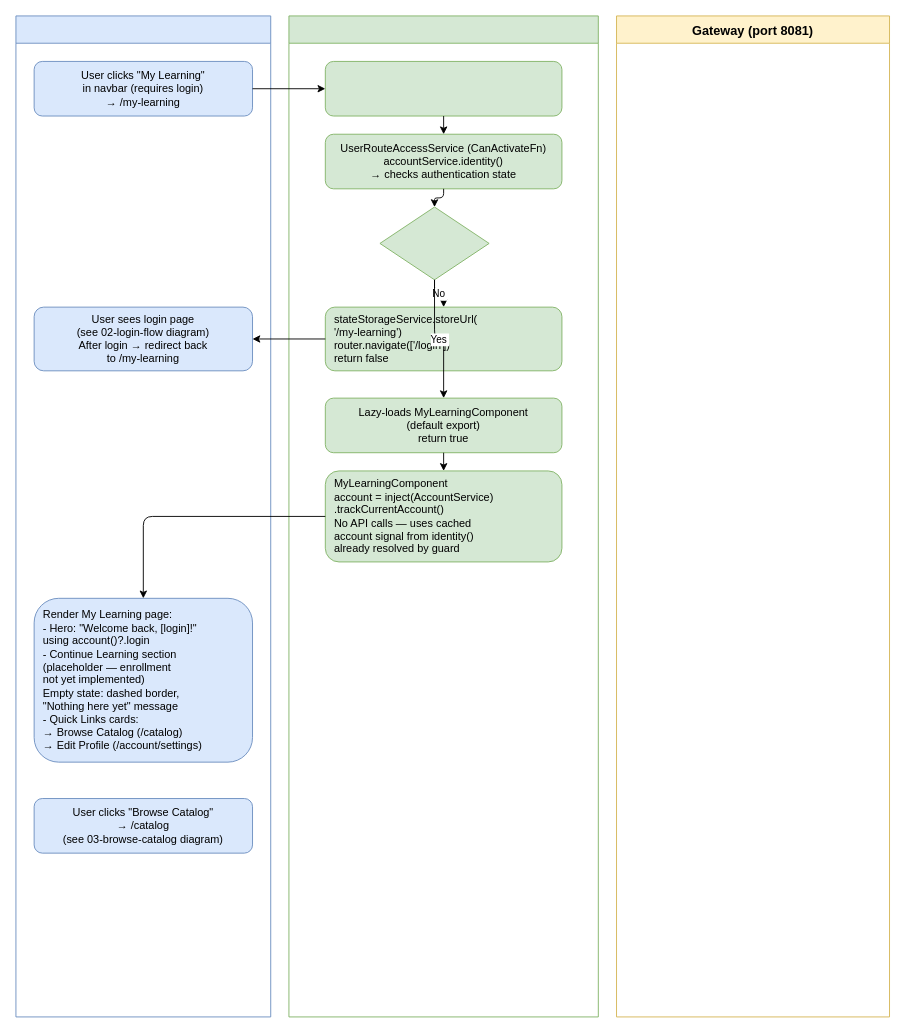
Some shapes in this 905 by 1033 pixel diagram are drawn without their labels. Here are the shapes that lost their labels. From the top down, the box of each, then its label:
(324, 61, 562, 116): Router: app.routes.ts path: 'my-learning' canActivate: [UserRouteAccessService]
(379, 206, 489, 280): account !== null?
(15, 15, 271, 1017): Browser / User
(288, 15, 598, 1017): Angular (MyLearningComponent)
